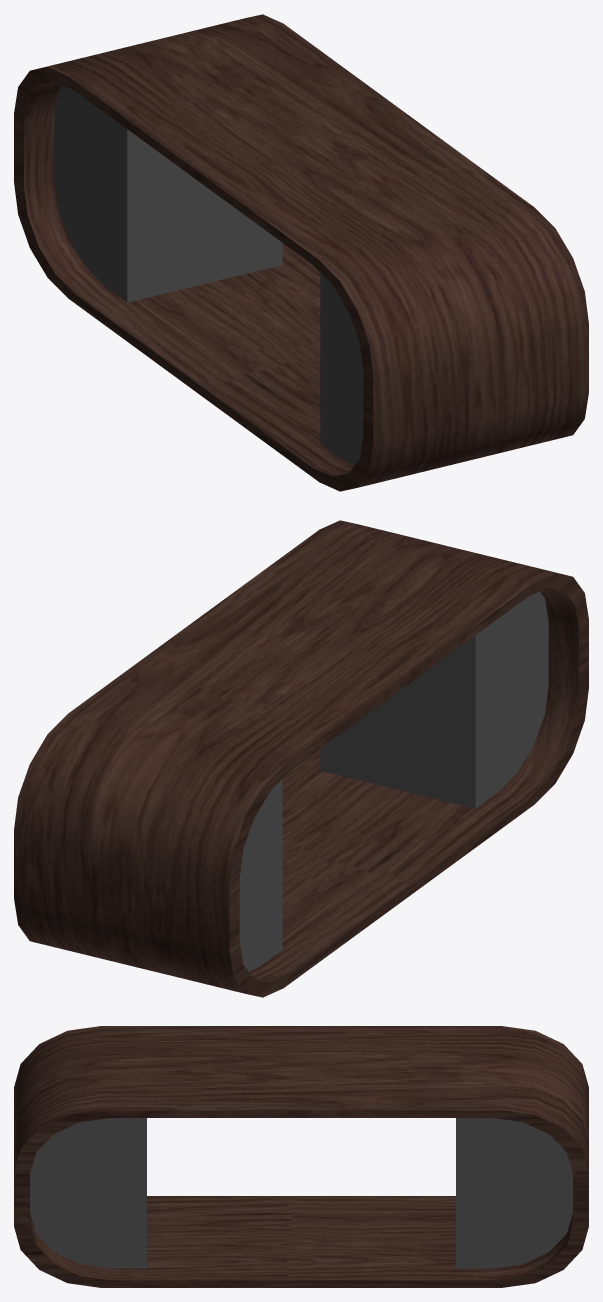
The model's file is modern_table.glb.
The picture shows the model from 3 angles, top to bottom: view 1: azimuth 30°, elevation 25°; view 2: azimuth 150°, elevation 25°; view 3: azimuth 270°, elevation 25°; orthographic projection. The views are drawn at different scales.
Parts seen in each view (by area): view 1: couch; view 2: couch; view 3: couch.
Part boxes in pixels (x1=…): couch: x1=14, y1=14, x2=588, y2=491; couch: x1=14, y1=520, x2=588, y2=997; couch: x1=14, y1=1026, x2=588, y2=1287.
Size of the model in its own units: 935 by 920 by 2700.
1 material, 1 textured.
